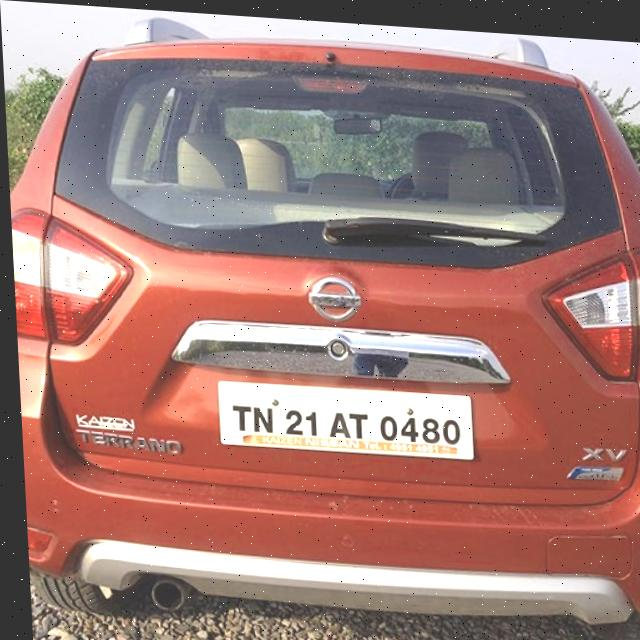plate: (210, 372, 472, 456)
